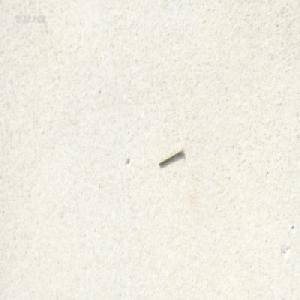Bolt: (157, 145, 183, 167)
